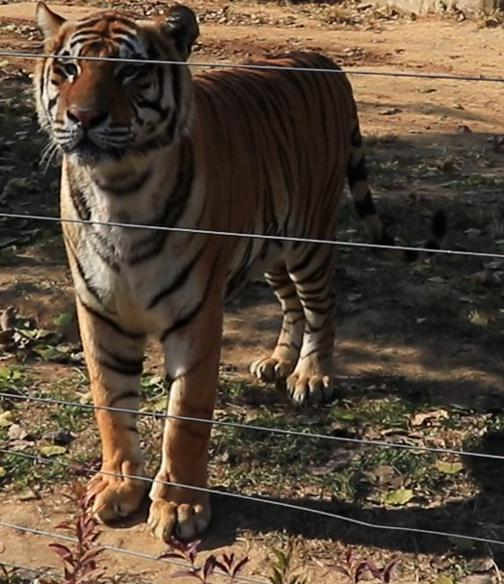tiger: (33, 3, 381, 542)
